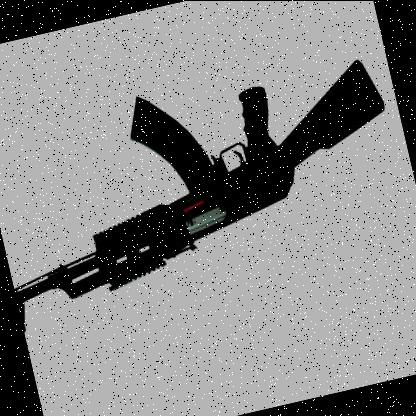rifle: (0, 16, 414, 332)
